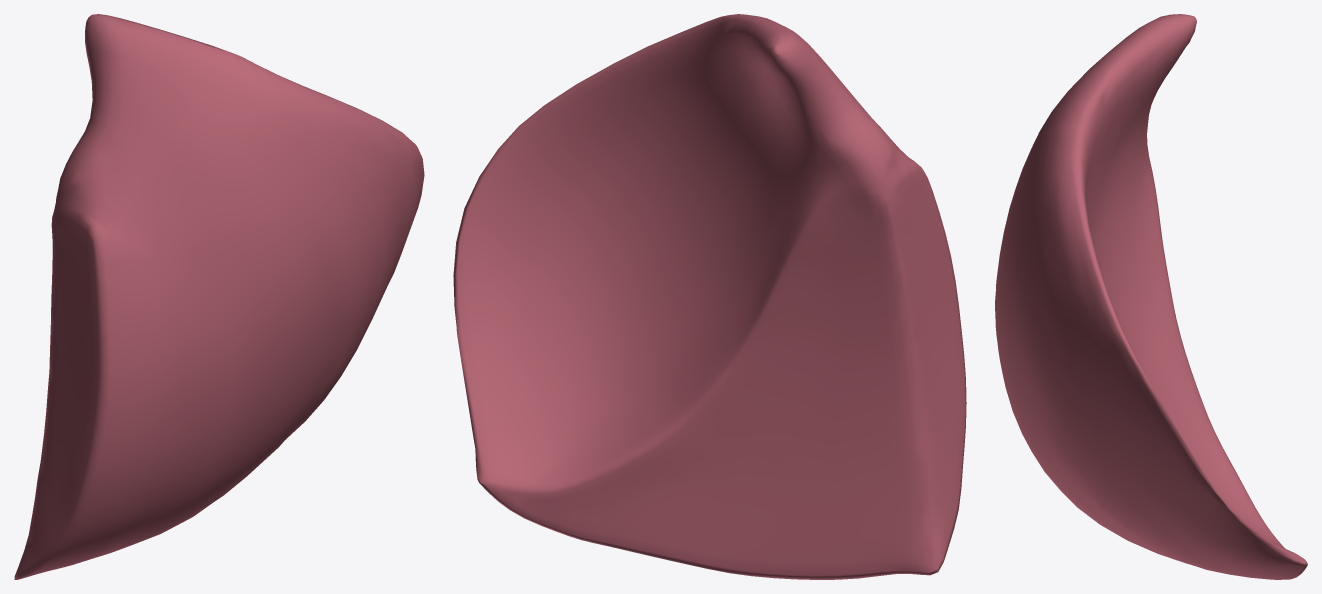
The picture shows the model from 3 angles, left to right: view 1: azimuth 30°, elevation 25°; view 2: azimuth 150°, elevation 25°; view 3: azimuth 270°, elevation 25°; orthographic projection. The views are drawn at different scales.
Parts seen in each view (by area): view 1: 肝左外叶上段（第2段）; view 2: 肝左外叶上段（第2段）; view 3: 肝左外叶上段（第2段）.
Part boxes in pixels (box(x1,y1,x2,y2)): 肝左外叶上段（第2段）: box(14, 14, 424, 579); 肝左外叶上段（第2段）: box(453, 14, 966, 579); 肝左外叶上段（第2段）: box(995, 14, 1307, 579).
Bounding box in the file's own units: 0.1321 × 0.1522 × 0.0826.
